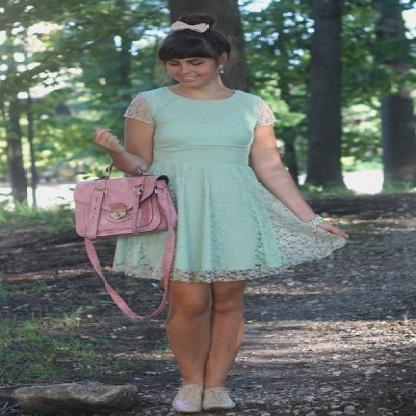bag: (63, 175, 177, 321)
dress: (113, 86, 348, 284)
shoe: (173, 383, 234, 411)
